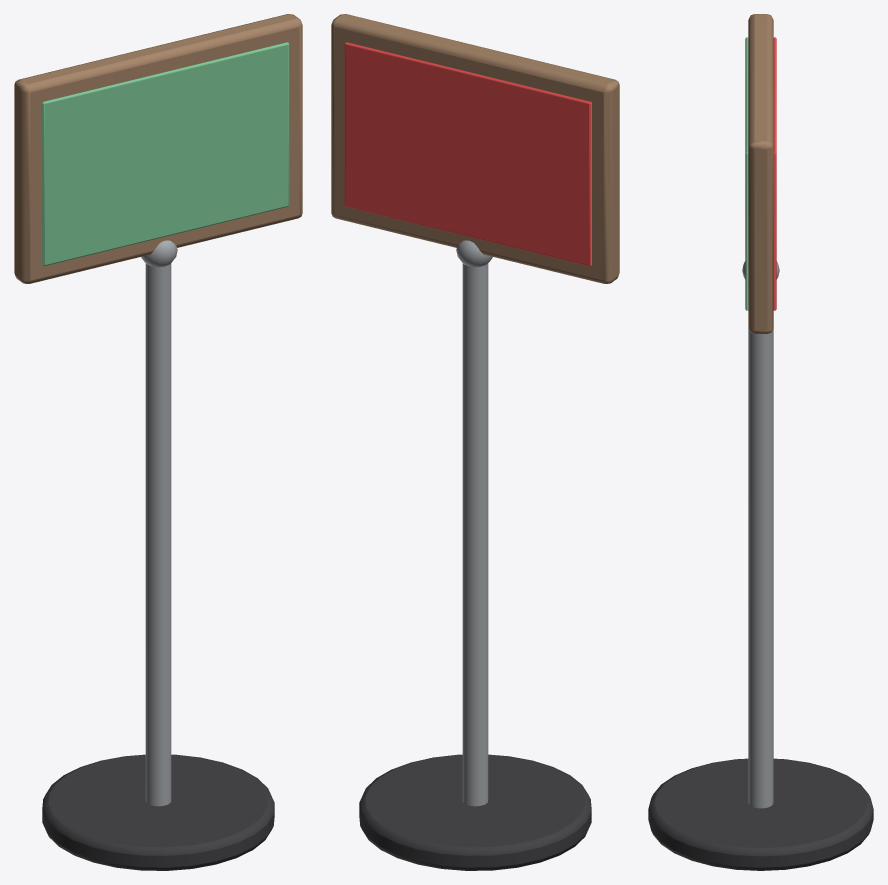
The model's file is OpenSign.fbx.
3 renders of one model, left to right at view 1: azimuth 30°, elevation 25°; view 2: azimuth 150°, elevation 25°; view 3: azimuth 270°, elevation 25°, orthographic. The views are drawn at different scales.
Parts seen in each view (by area): view 1: Board, OpenSign; view 2: Board, OpenSign; view 3: OpenSign, Board.
Boxes of the visible parts, left/top/right/bottom form: Board: left=14, top=14, right=302, bottom=283; OpenSign: left=42, top=240, right=274, bottom=870; Board: left=331, top=14, right=619, bottom=283; OpenSign: left=359, top=240, right=591, bottom=870; OpenSign: left=648, top=261, right=873, bottom=870; Board: left=745, top=14, right=776, bottom=333.
Bounding box in the file's own units: 0.5 × 1.32 × 0.36.
